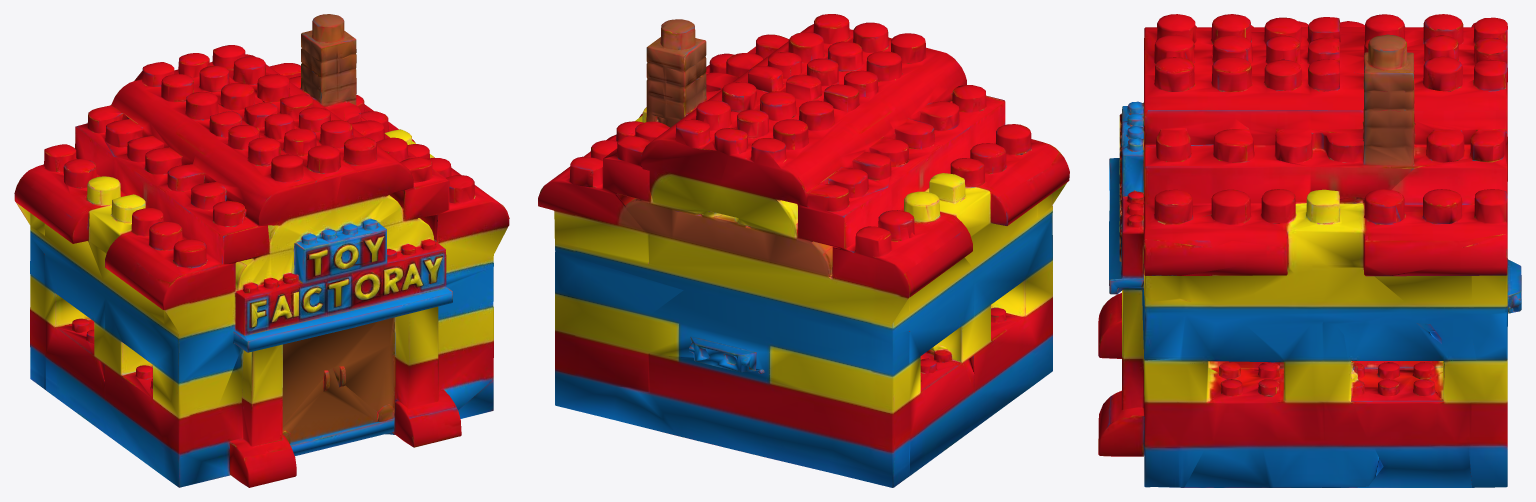
The model's file is brickshop.glb.
3 views of the same model, side by side, from view 1: azimuth 30°, elevation 25°; view 2: azimuth 150°, elevation 25°; view 3: azimuth 270°, elevation 25° (orthographic). The views are drawn at different scales.
Parts seen in each view (by area): view 1: Mesh_0; view 2: Mesh_0; view 3: Mesh_0.
Part boxes in pixels (box(x1,y1,x2,y2)): Mesh_0: box(14, 14, 509, 487); Mesh_0: box(538, 14, 1069, 487); Mesh_0: box(1098, 14, 1521, 487).
Size of the model in its own units: 1.91 by 1.78 by 1.66.
Materials: 1 (1 with a texture image).
